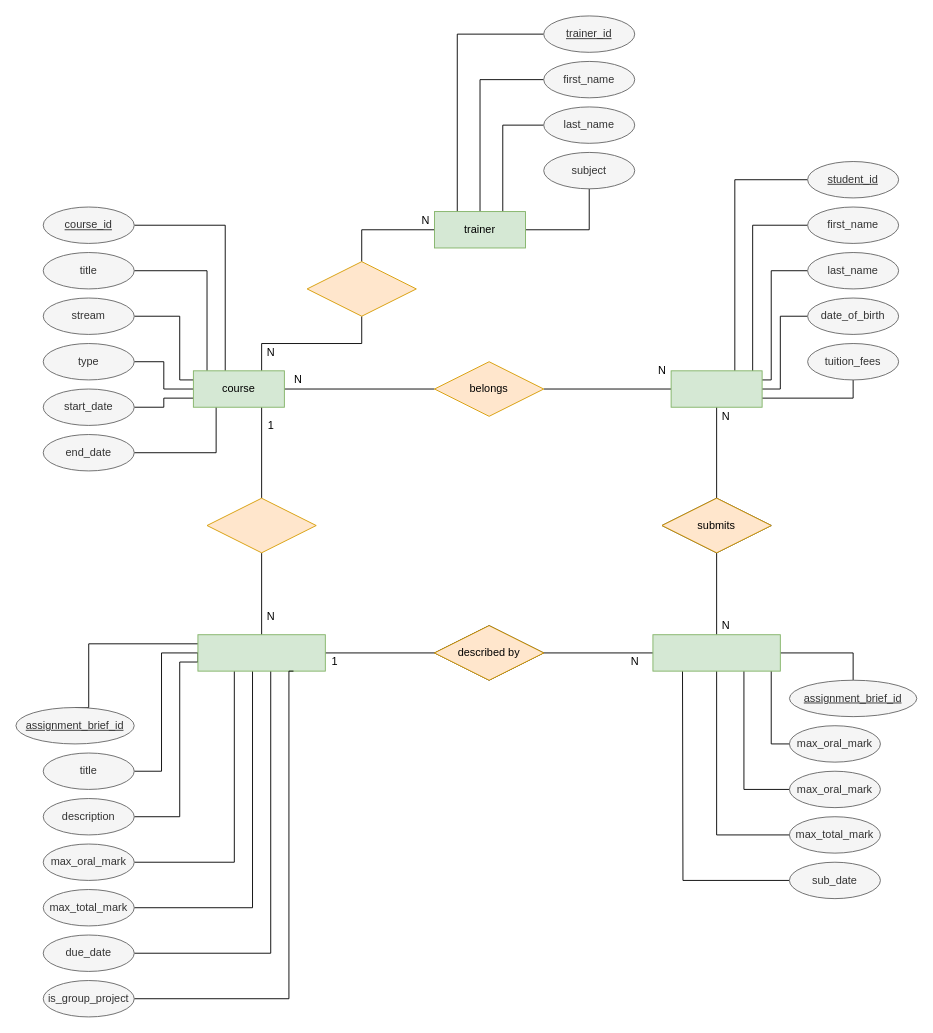
Image size: 933x1033. Some labels were removed from this diagram. The centre of each missing label's shape, as x and y in pixels:
"assignment_briefing" goes at point 261,652.
"assignment_submission" goes at point 716,652.
"have" goes at point 261,525.
"student" goes at point 716,388.
"teaches" goes at point 361,288.
